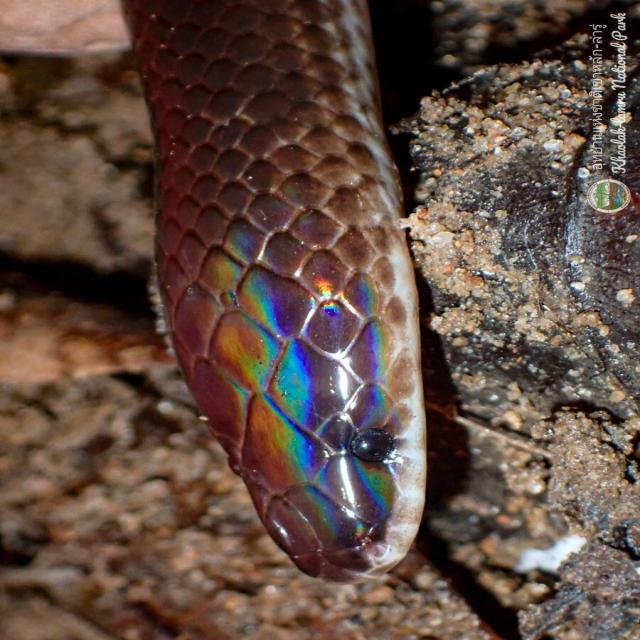Non-Venomous: (154, 50, 461, 589)
